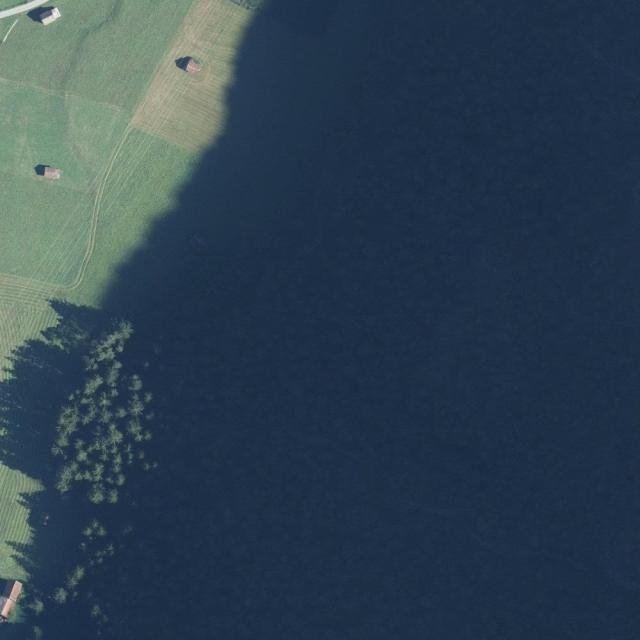greenland: (37, 310, 181, 513)
